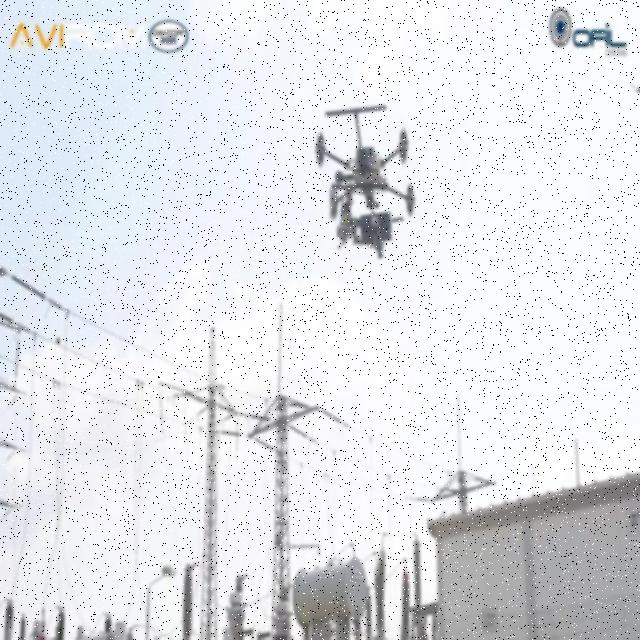UAV: (315, 105, 415, 222)
